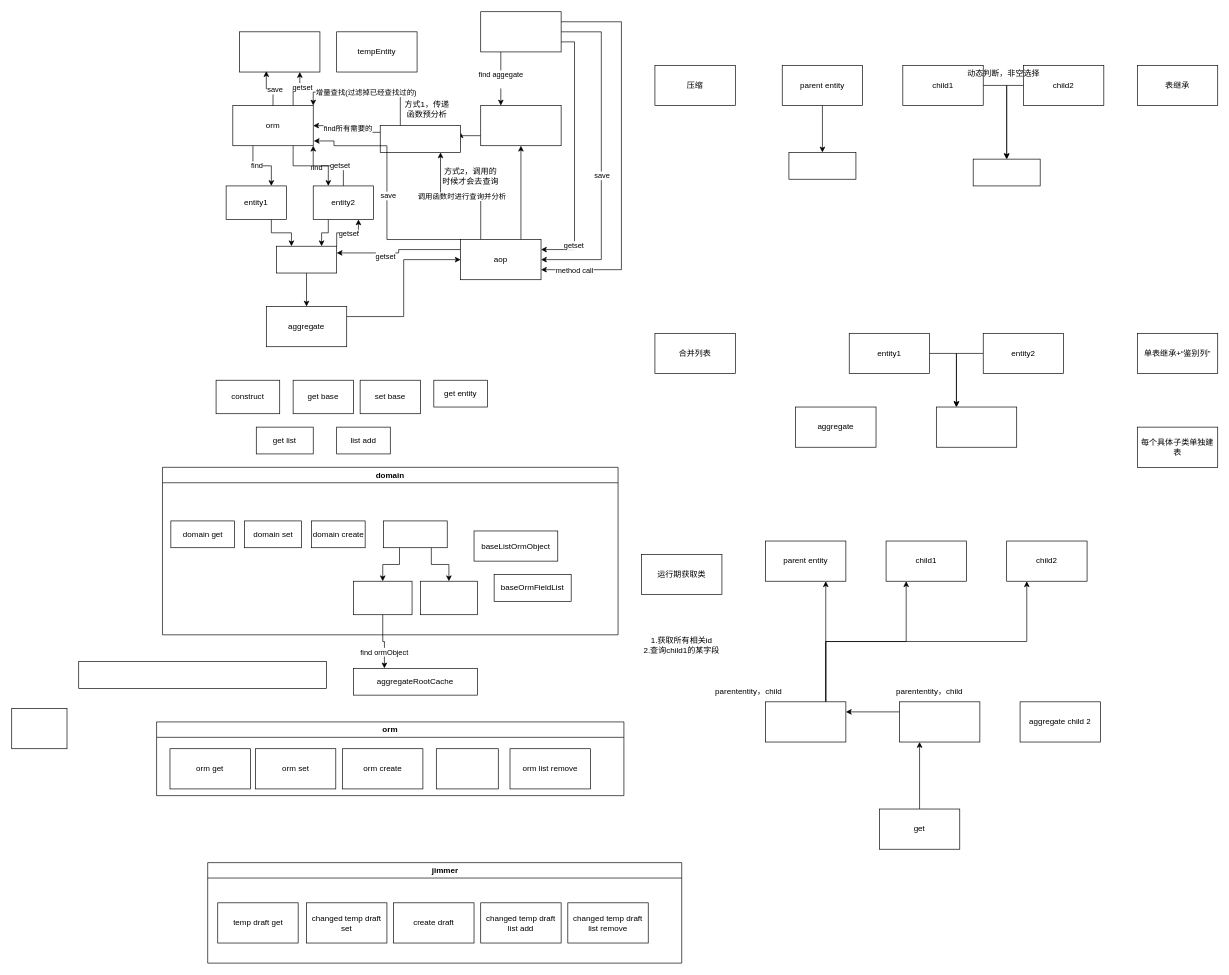
The diagram is 1229 pixels wide and 975 high, and some of its shapes have lost their labels. Each missing label, with the centre of its shape:
aggregate child 1: the point at 939,721
aggregate parent: the point at 805,721
analysisNeededField: the point at 420,138
changedEntity: the point at 279,51
cmd: the point at 520,31
domain get list: the point at 415,534
domain list add domain object: the point at 382,598
domain list remove domain object: the point at 448,598
domainOrmMap: the point at 202,674
list: the point at 976,426
map规则: the point at 306,259
orm list add: the point at 467,768
orm relate one to one one to many many to many: the point at 39,728
ormObject1: the point at 822,165
ormObject2: the point at 1006,172
repository: the point at 520,125
